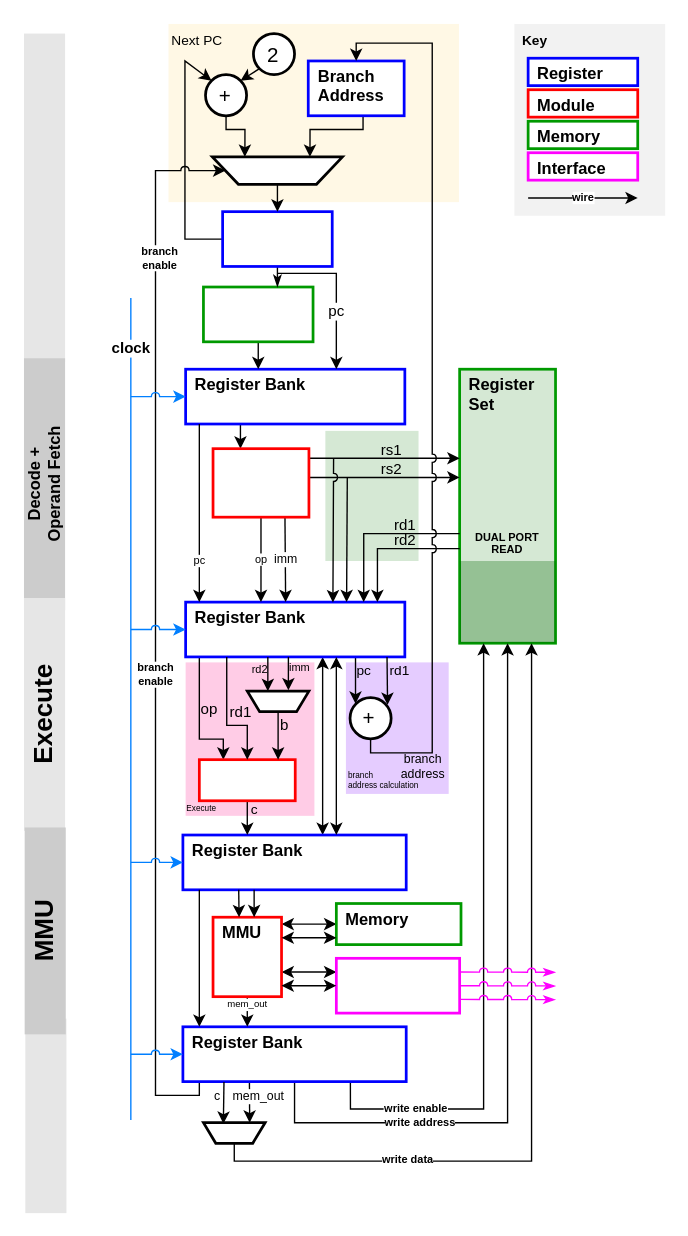
Some shapes in this 688 by 1236 pixel diagram are drawn without their labels. Each missing label, with the centre of its shape:
ALU: (x=246, y=779)
Fetch: (x=43, y=197)
Instr Decode: (x=260, y=482)
Instruction Memory: (x=257, y=313)
Operand Fetch: (x=371, y=495)
Program Counter: (x=277, y=238)
Wishbone Bus: (x=397, y=985)
Write Back: (x=45, y=1115)
WRITE PORT: (x=507, y=601)
